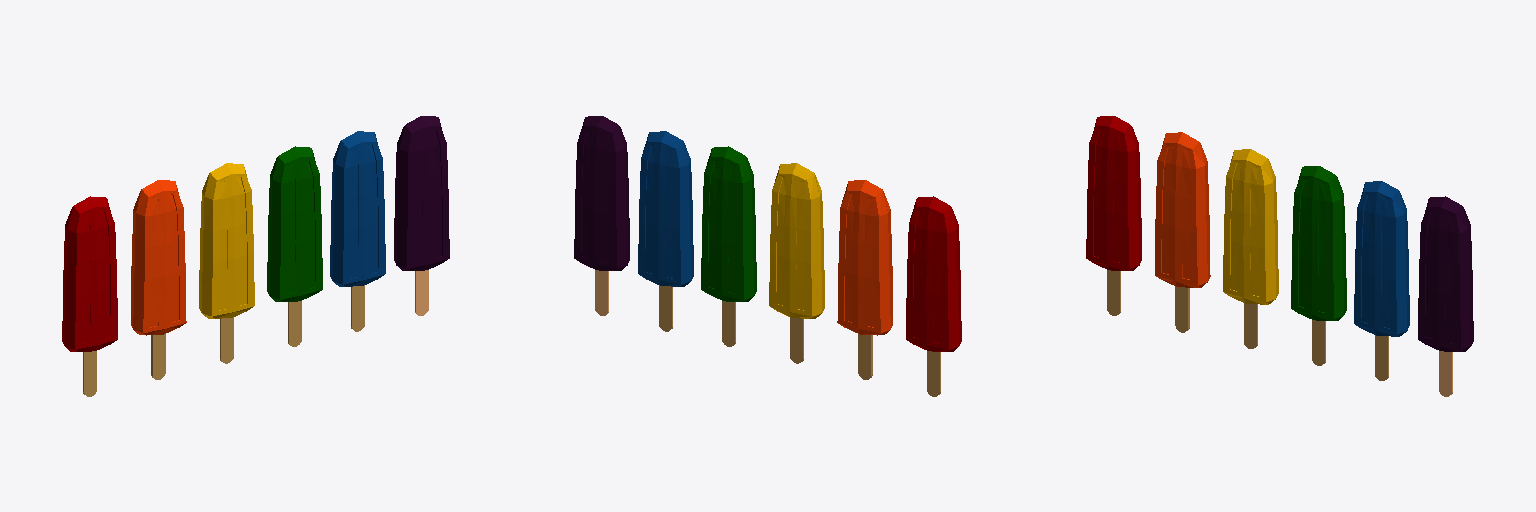
File: popsicles.obj
The picture shows the model from 3 angles: view 1: azimuth 30°, elevation 25°; view 2: azimuth 150°, elevation 25°; view 3: azimuth 330°, elevation 25°; orthographic projection.
Size of the model in its own units: 6.61 by 3.31 by 0.4496.